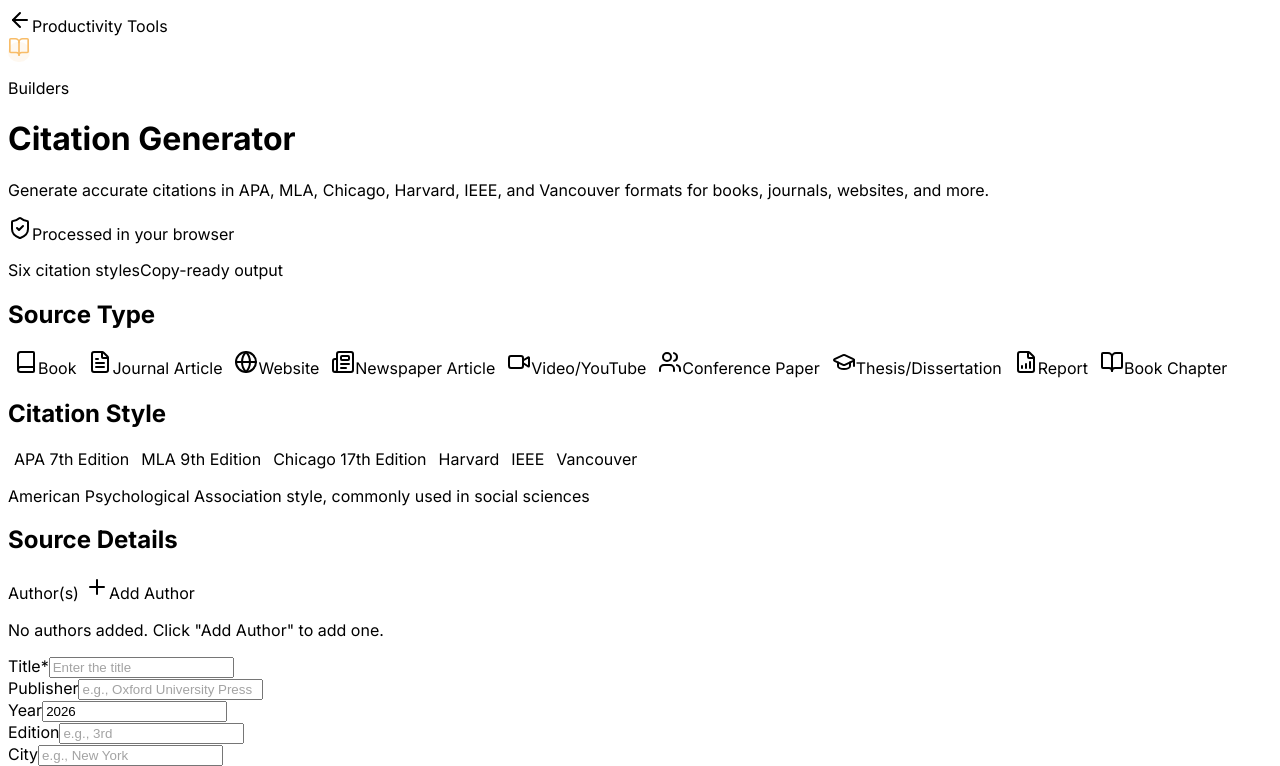
Test: CitationGeneratorPage › Source Type Selection › shows thesis type dropdown when thesis is selected
Click the button "Thesis/Dissertation".
click(917, 364)  # box [826, 349, 1008, 379]
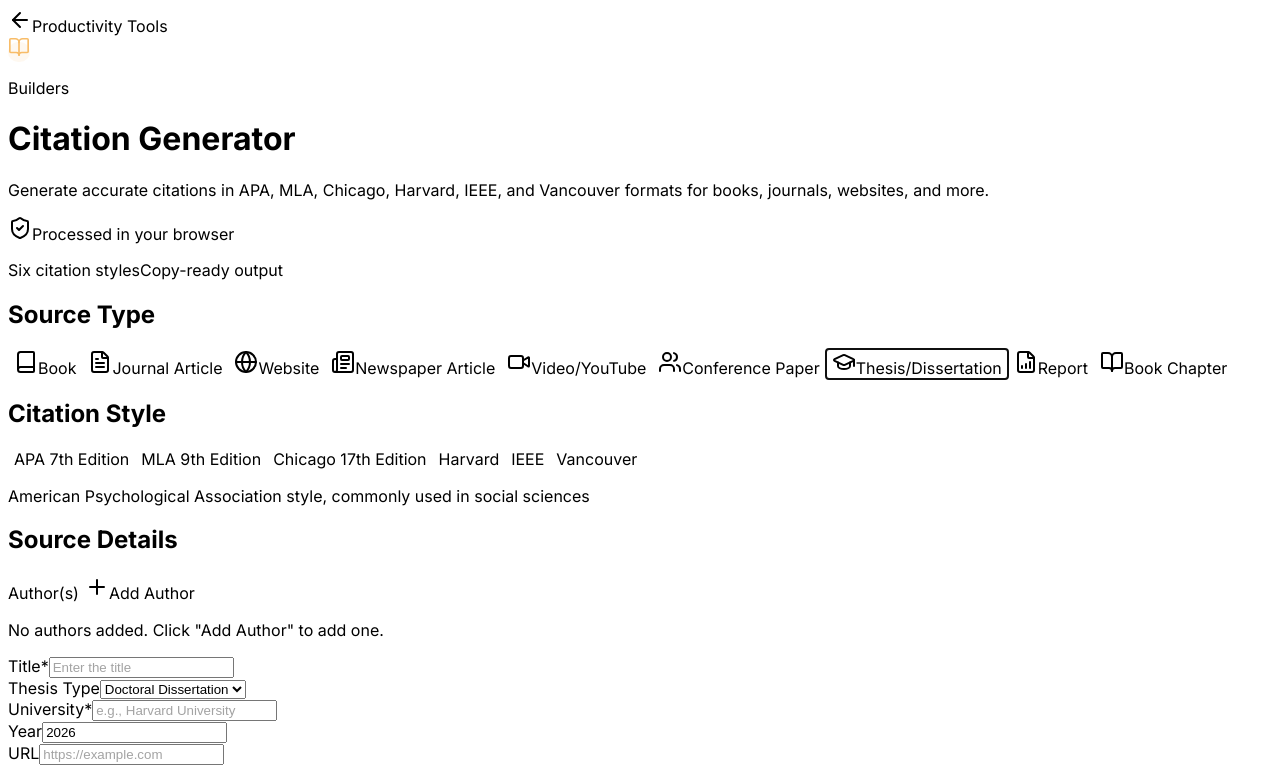
expect the dropdown is shown: met, box [100, 680, 246, 699]
